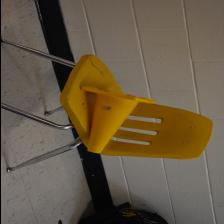cone: (79, 86, 155, 154)
